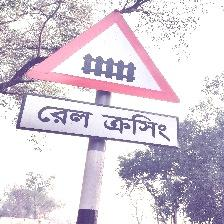Rail-crossing: (16, 9, 183, 149)
